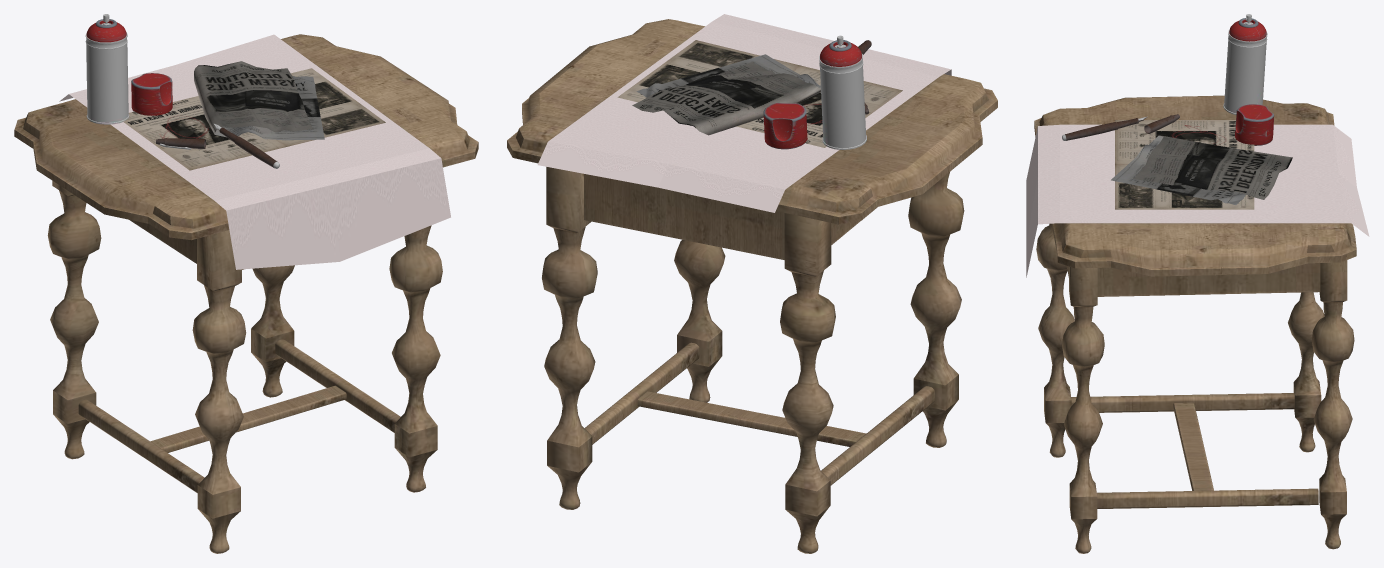
File: bedside3d.glb
3 renders of one model, left to right at view 1: azimuth 30°, elevation 25°; view 2: azimuth 150°, elevation 25°; view 3: azimuth 270°, elevation 25°, orthographic. The views are drawn at different scales.
Visible parts, largest first — view 1: Table2; view 2: Table2; view 3: Table2.
Part boxes in pixels (x1,y1,x2,y2): Table2: [14, 14, 478, 553]; Table2: [507, 14, 997, 553]; Table2: [1026, 14, 1369, 553].
Bounding box in the file's own units: 220 × 263 × 188.
Materials: 4 (4 with a texture image).
